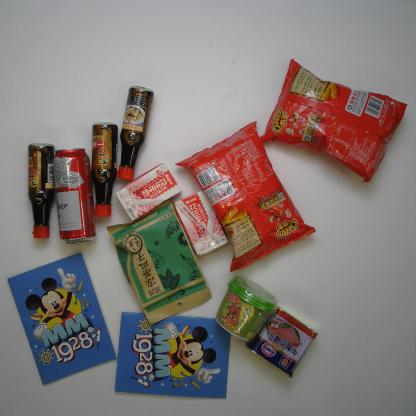Alcohol: (53, 146, 98, 245)
Canned Food: (243, 305, 320, 379)
Dried Food: (106, 200, 213, 325)
Instant Drink: (214, 277, 279, 342)
Milk: (114, 162, 184, 222), (174, 189, 230, 256)
Puffed Food: (174, 119, 318, 273), (258, 57, 410, 184)
Seasoner: (116, 84, 156, 182), (26, 141, 57, 239), (90, 122, 119, 218)
Stationery: (6, 251, 118, 387), (114, 310, 232, 399)
